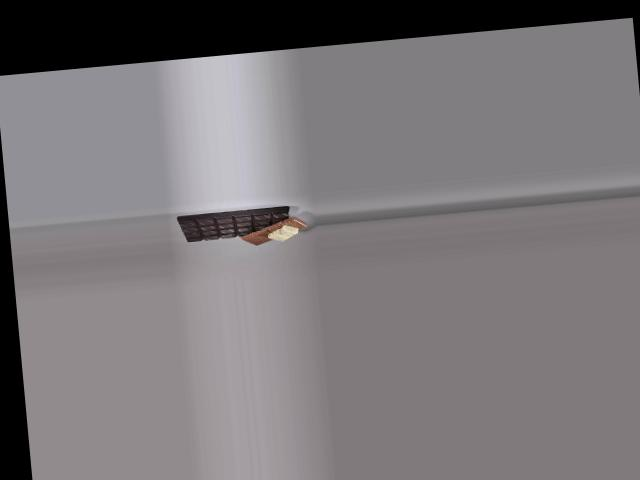chocolate: (176, 201, 298, 247)
